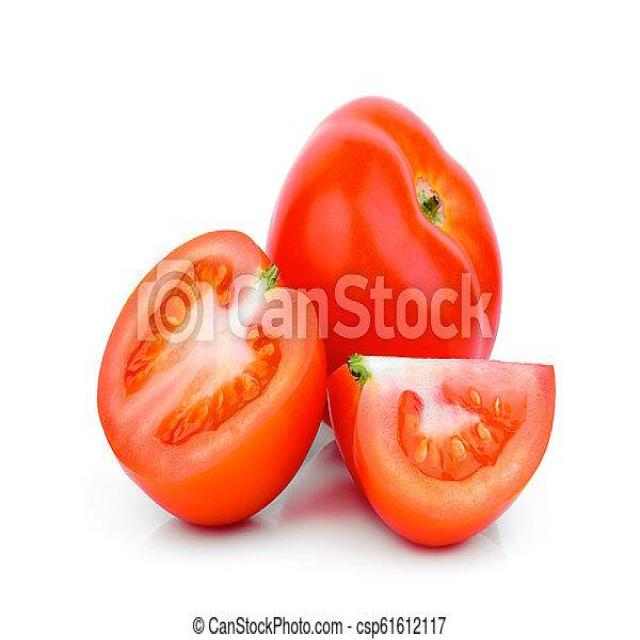Tomato: (95, 220, 321, 518), (270, 95, 506, 361), (327, 350, 558, 546)
